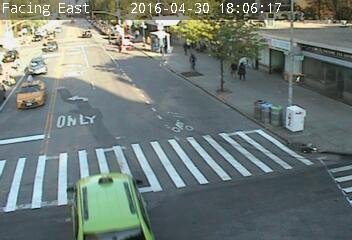neg: (74, 163, 115, 217), (249, 146, 279, 186), (294, 117, 321, 153), (126, 161, 153, 196), (318, 85, 343, 118), (320, 158, 345, 190), (220, 7, 243, 38), (308, 49, 327, 73), (242, 29, 256, 49), (176, 1, 190, 19), (73, 29, 83, 42), (283, 6, 293, 19), (84, 14, 93, 26), (141, 2, 148, 12), (317, 12, 324, 22)
